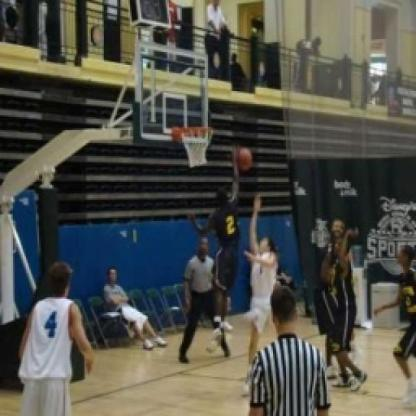basketball: (232, 145, 256, 173)
